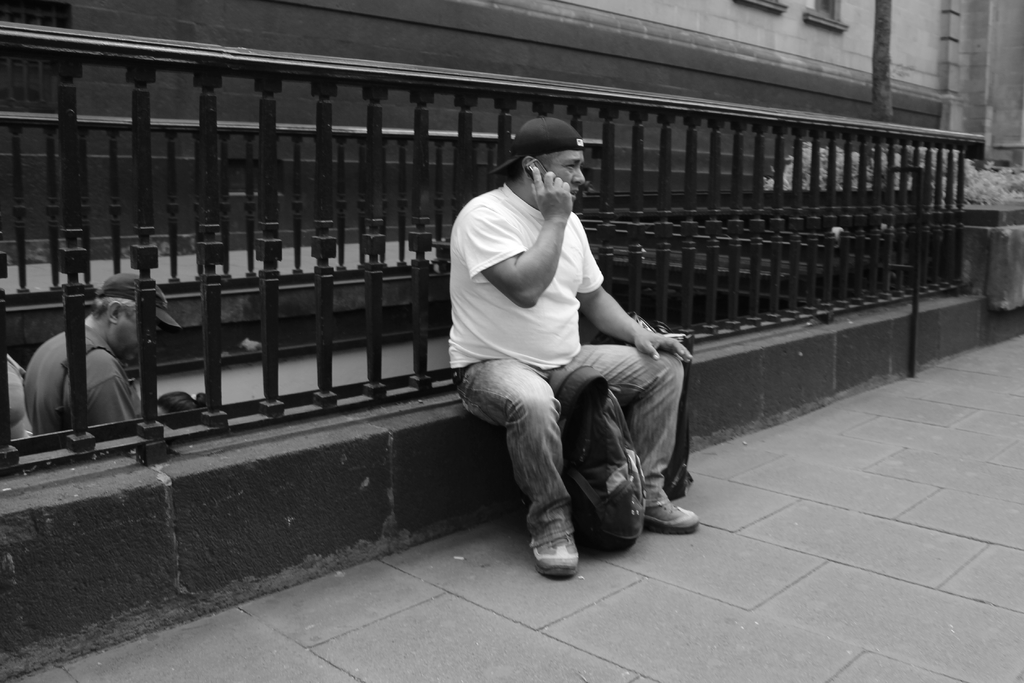Footwear: (529, 517, 584, 579), (641, 486, 700, 533)
